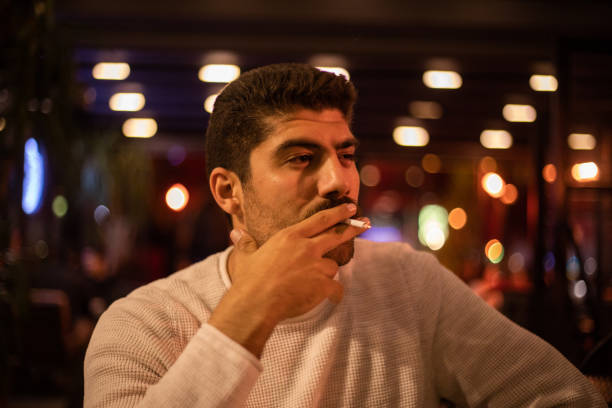cigarette: (343, 219, 371, 231)
